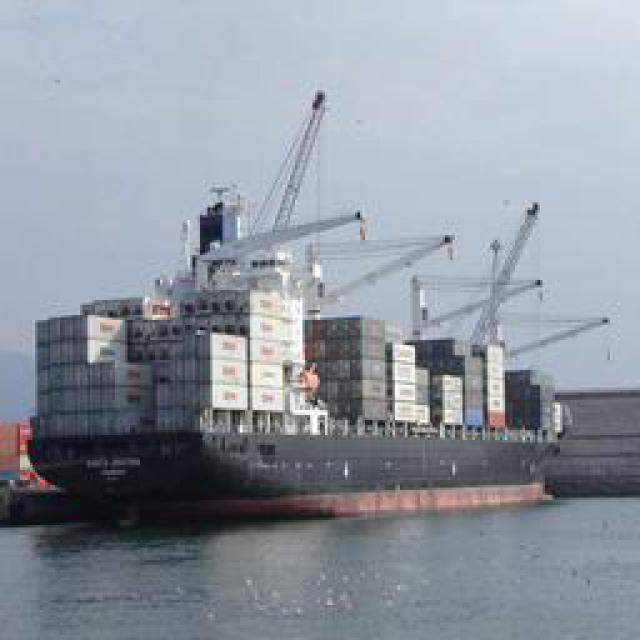Ship: (40, 65, 583, 513)
